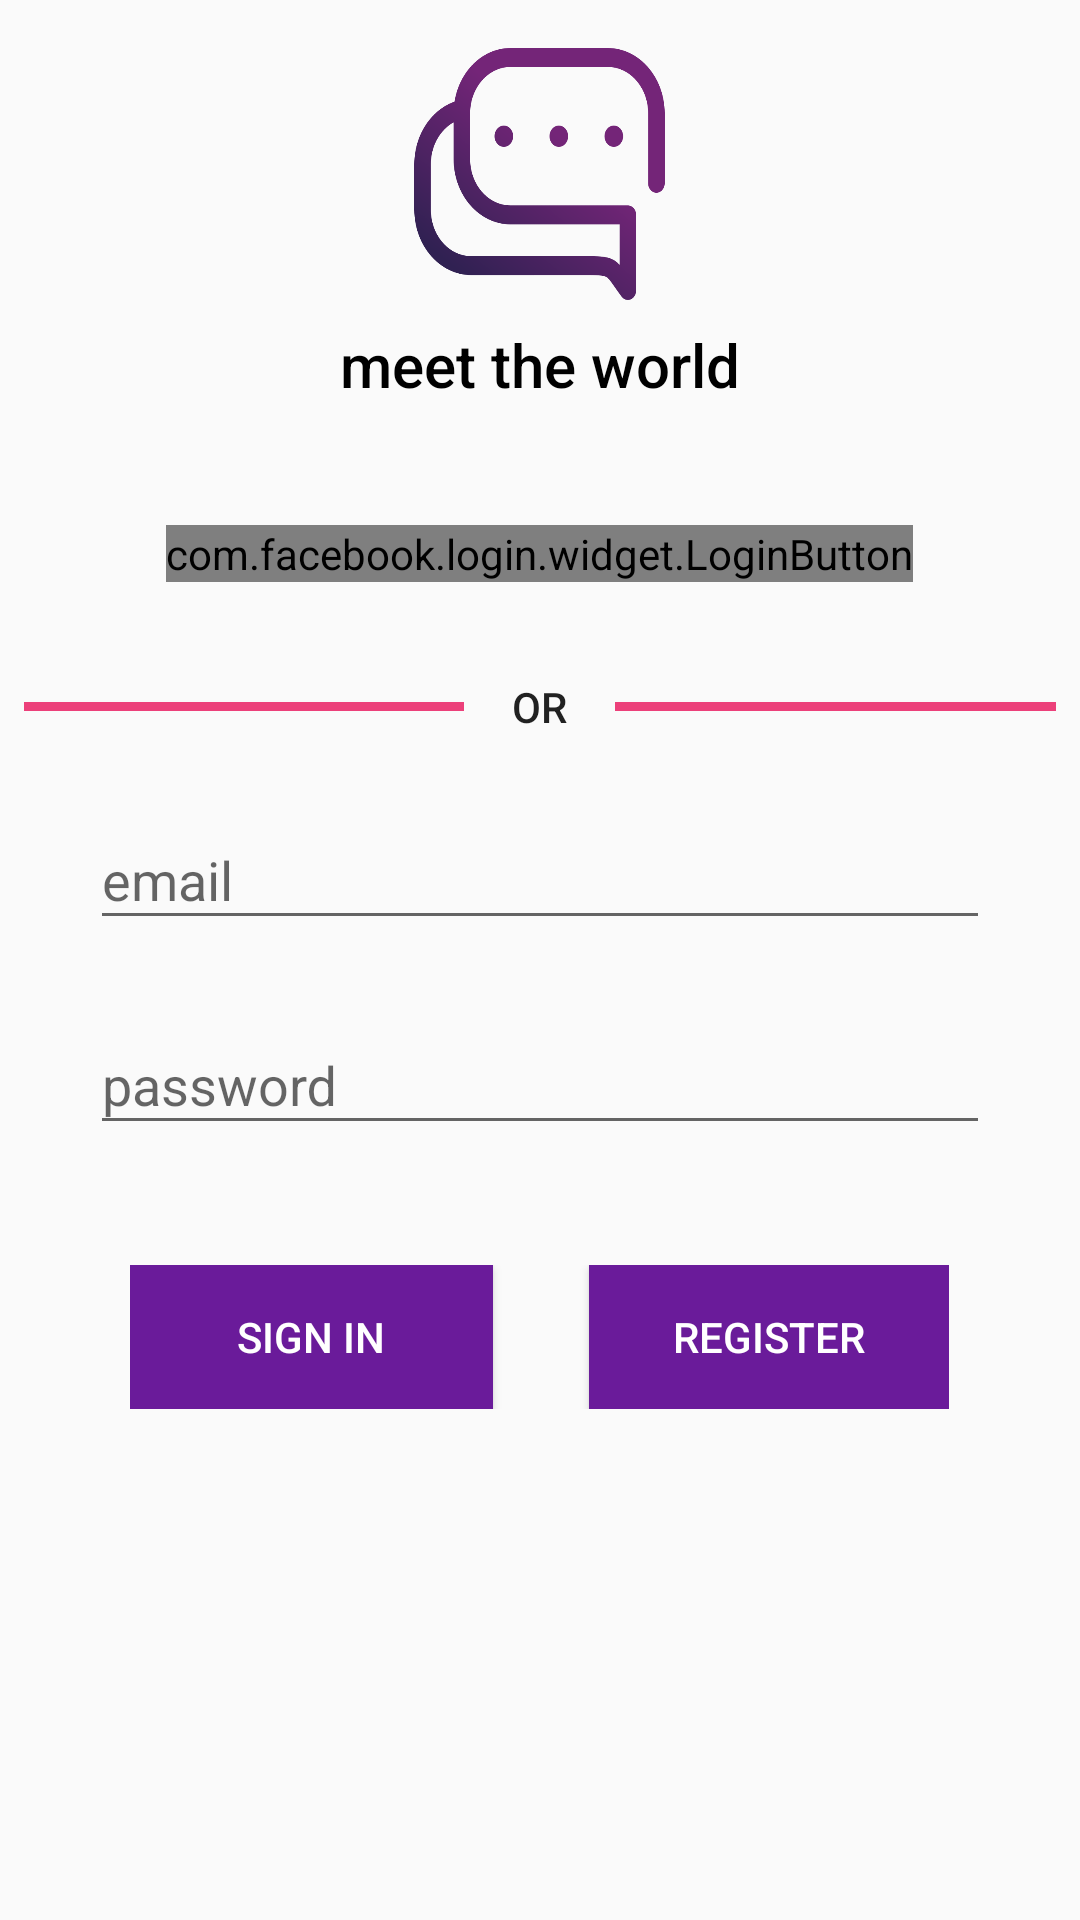

Where to tap for icons on this 1080×1920 app screen, as [x,y]:
chat bubble: [539,174]
